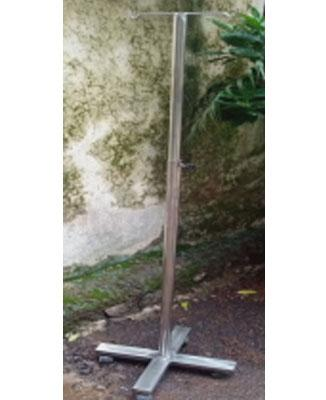Saline Stand: (94, 8, 240, 399)
